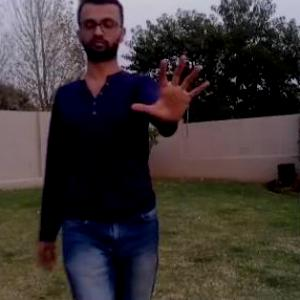follow_hand: (129, 48, 215, 132)
